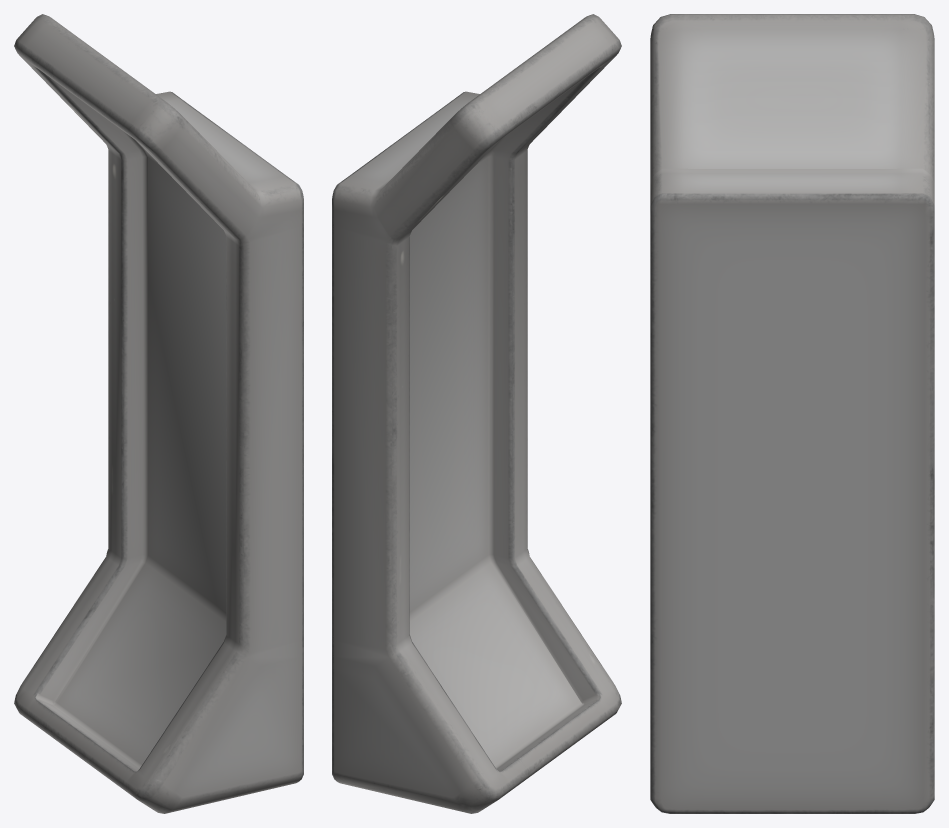
File: SM_Panel_3_embedded.fbx
3 views of the same model, side by side, from view 1: azimuth 30°, elevation 25°; view 2: azimuth 150°, elevation 25°; view 3: azimuth 270°, elevation 25° (orthographic). The views are drawn at different scales.
Parts seen in each view (by area): view 1: SM_Panel_3; view 2: SM_Panel_3; view 3: SM_Panel_3.
Boxes of the visible parts, <box> form: SM_Panel_3: <box>14,14,303,813</box>; SM_Panel_3: <box>332,14,621,813</box>; SM_Panel_3: <box>650,14,934,813</box>.
Size of the model in its own units: 67.47 by 285 by 100.
Materials: 1 (1 with a texture image).
